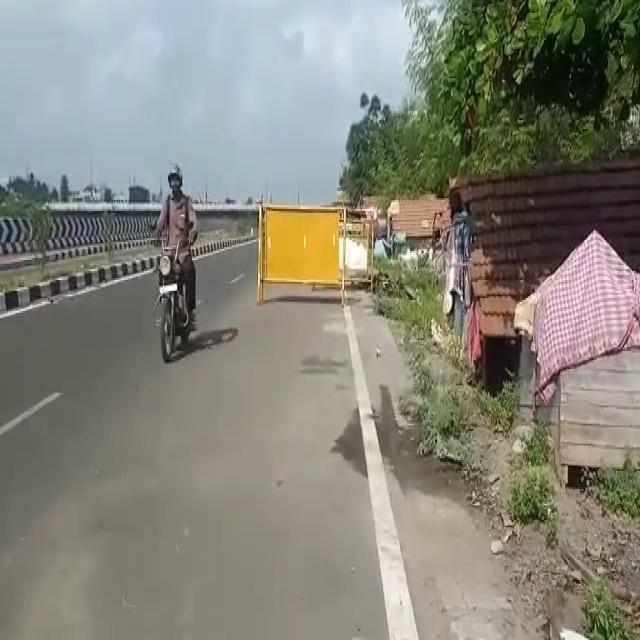fallen_object: (236, 193, 363, 320)
